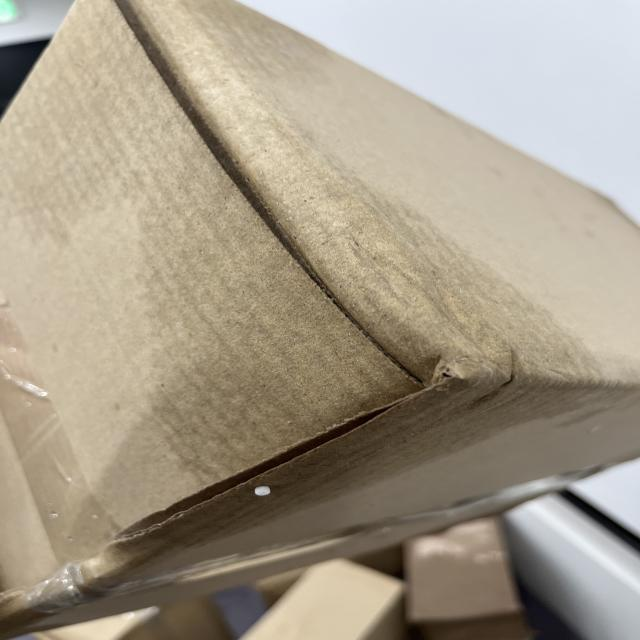wet: (119, 97, 603, 522)
